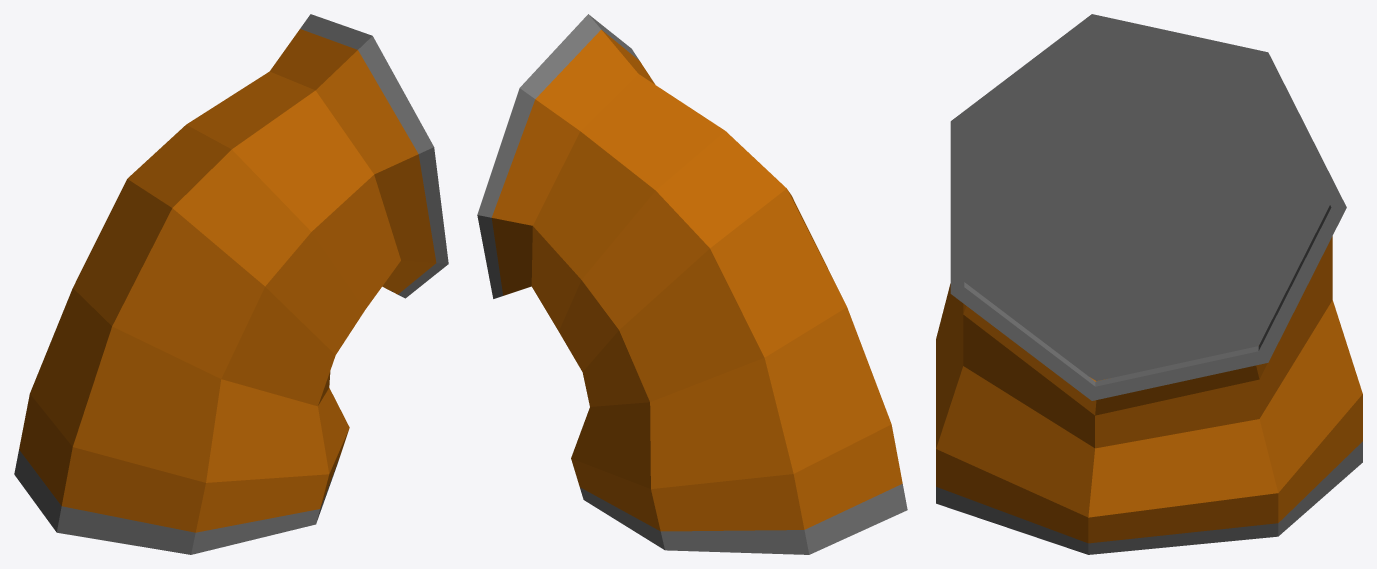
File: OrangeCan004.fbx
3 renders of one model, left to right at view 1: azimuth 30°, elevation 25°; view 2: azimuth 150°, elevation 25°; view 3: azimuth 270°, elevation 25°, orthographic. The views are drawn at different scales.
Parts seen in each view (by area): view 1: CanOrange004; view 2: CanOrange004; view 3: CanOrange004.
Part boxes in pixels (x1,y1,x2,y2): CanOrange004: (14, 14, 448, 554); CanOrange004: (477, 14, 907, 554); CanOrange004: (936, 14, 1362, 554).
Bounding box in the file's own units: 83.25 × 95.13 × 65.11.
